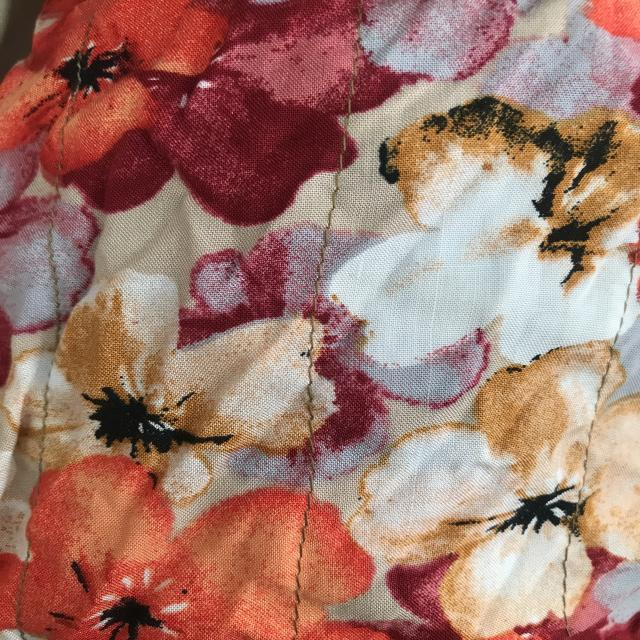good: (287, 501, 313, 640), (312, 180, 352, 262), (553, 548, 582, 625)
